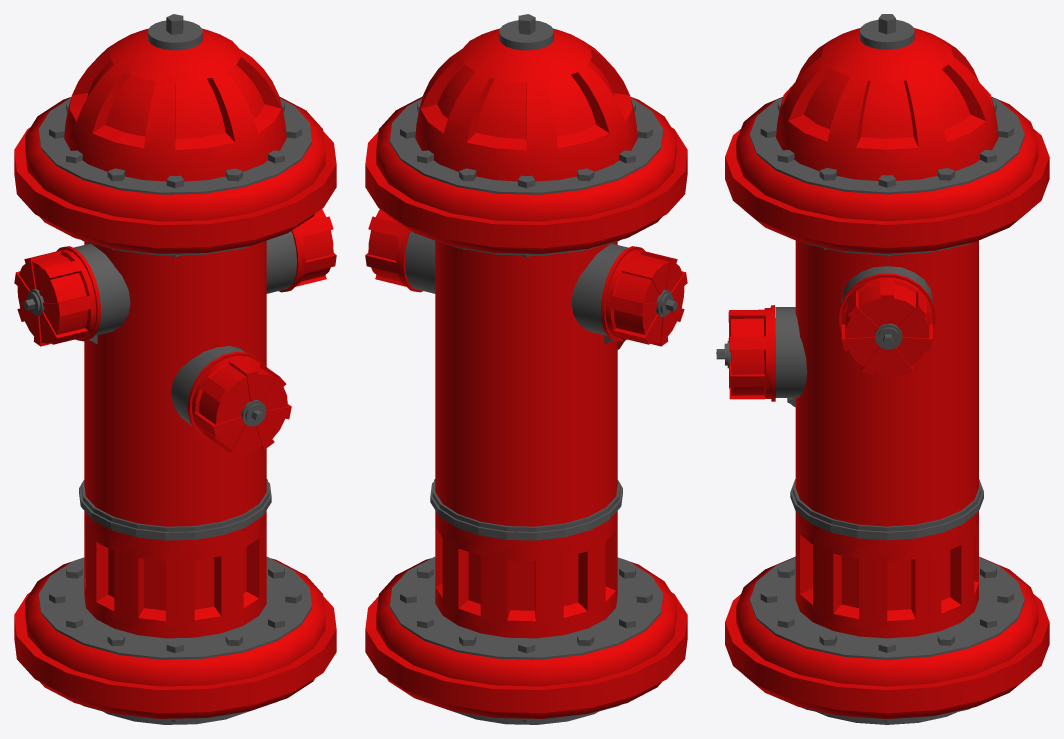
File: hidrante_Idle.fbx
3 renders of one model, left to right at view 1: azimuth 30°, elevation 25°; view 2: azimuth 150°, elevation 25°; view 3: azimuth 270°, elevation 25°, orthographic.
Visible parts, largest first — view 1: pCylinder1, pSphere1, pasted__pCylinder15, pasted__pCylinder17, pCylinder14, pCylinder15, pCylinder10, pCylinder7, pCylinder32, pCylinder2, pCylinder13, pCylinder4 (+2 smaller); view 2: pCylinder1, pSphere1, pasted__pCylinder15, pasted__pCylinder17, pCylinder14, pCylinder15, pCylinder7, pCylinder32, pCylinder2, pCylinder13, pCylinder4, pCylinder45; view 3: pCylinder1, pSphere1, pasted__pCylinder15, pasted__pCylinder17, pCylinder14, pCylinder15, pCylinder4, pCylinder32, pCylinder10, pCylinder13, pCylinder3, pCylinder45 (+1 smaller).
Boxes of the visible parts, x1,y1,x2,y2 form: pCylinder1: (84, 240, 266, 526); pSphere1: (64, 28, 286, 181); pasted__pCylinder15: (14, 558, 336, 718); pasted__pCylinder17: (14, 96, 336, 253); pCylinder14: (84, 492, 266, 638); pCylinder15: (38, 556, 311, 659); pCylinder10: (187, 351, 291, 455); pCylinder7: (14, 246, 100, 346); pCylinder32: (38, 97, 311, 194); pCylinder2: (74, 231, 296, 335); pCylinder13: (79, 479, 271, 540); pCylinder4: (279, 209, 336, 292); pCylinder1: (435, 240, 617, 526); pSphere1: (415, 28, 637, 181); pasted__pCylinder15: (365, 558, 687, 718); pasted__pCylinder17: (365, 96, 687, 253); pCylinder14: (435, 492, 617, 638); pCylinder15: (390, 556, 663, 659); pCylinder7: (601, 246, 687, 346); pCylinder32: (390, 97, 663, 194); pCylinder2: (405, 231, 627, 335); pCylinder13: (430, 479, 622, 540); pCylinder4: (365, 209, 422, 292); pCylinder45: (499, 20, 553, 50); pCylinder1: (795, 240, 978, 525); pSphere1: (776, 28, 998, 180); pasted__pCylinder15: (725, 556, 1049, 718); pasted__pCylinder17: (725, 97, 1049, 253); pCylinder14: (795, 487, 978, 638); pCylinder15: (749, 557, 1024, 659); pCylinder4: (839, 273, 935, 375); pCylinder32: (749, 97, 1024, 194); pCylinder10: (728, 305, 775, 401); pCylinder13: (790, 479, 983, 540); pCylinder3: (775, 307, 807, 397); pCylinder45: (859, 19, 914, 49).
Bounding box in the file's own units: 3.77 × 8.01 × 3.63.
